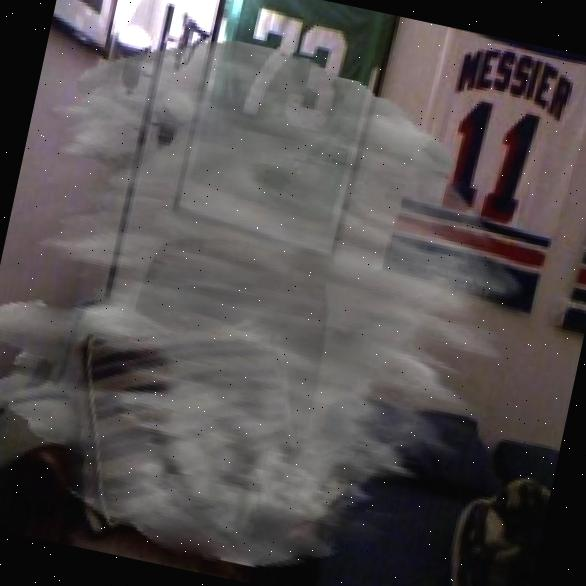smoke: (0, 2, 567, 586)
